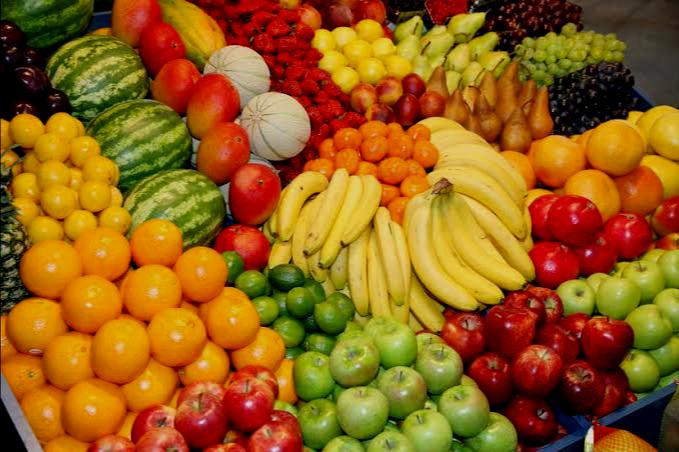chuoi: (400, 181, 514, 303), (280, 168, 380, 268)
